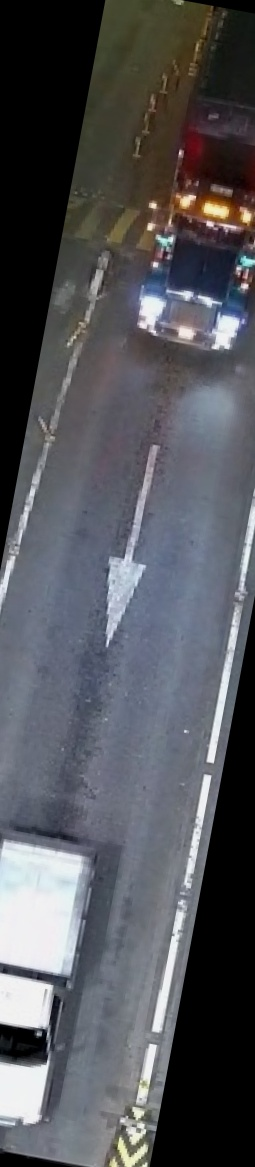car: (0, 819, 111, 1139)
truck: (129, 6, 255, 368)
